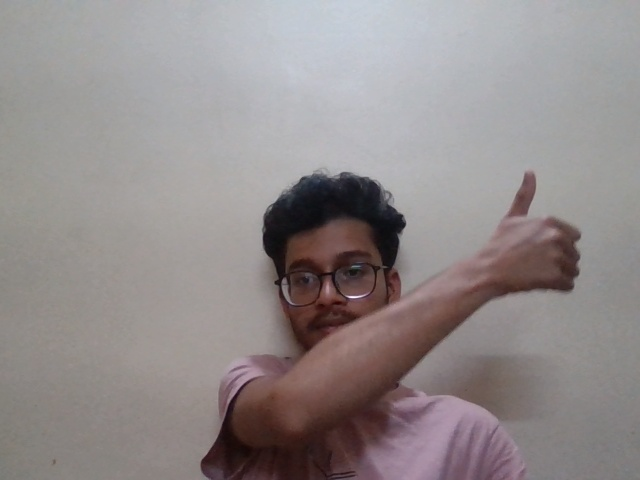yes: (468, 172, 611, 301)
